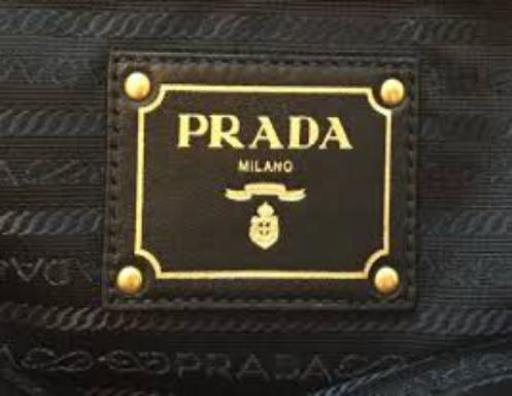PRADA: (174, 100, 355, 159)
